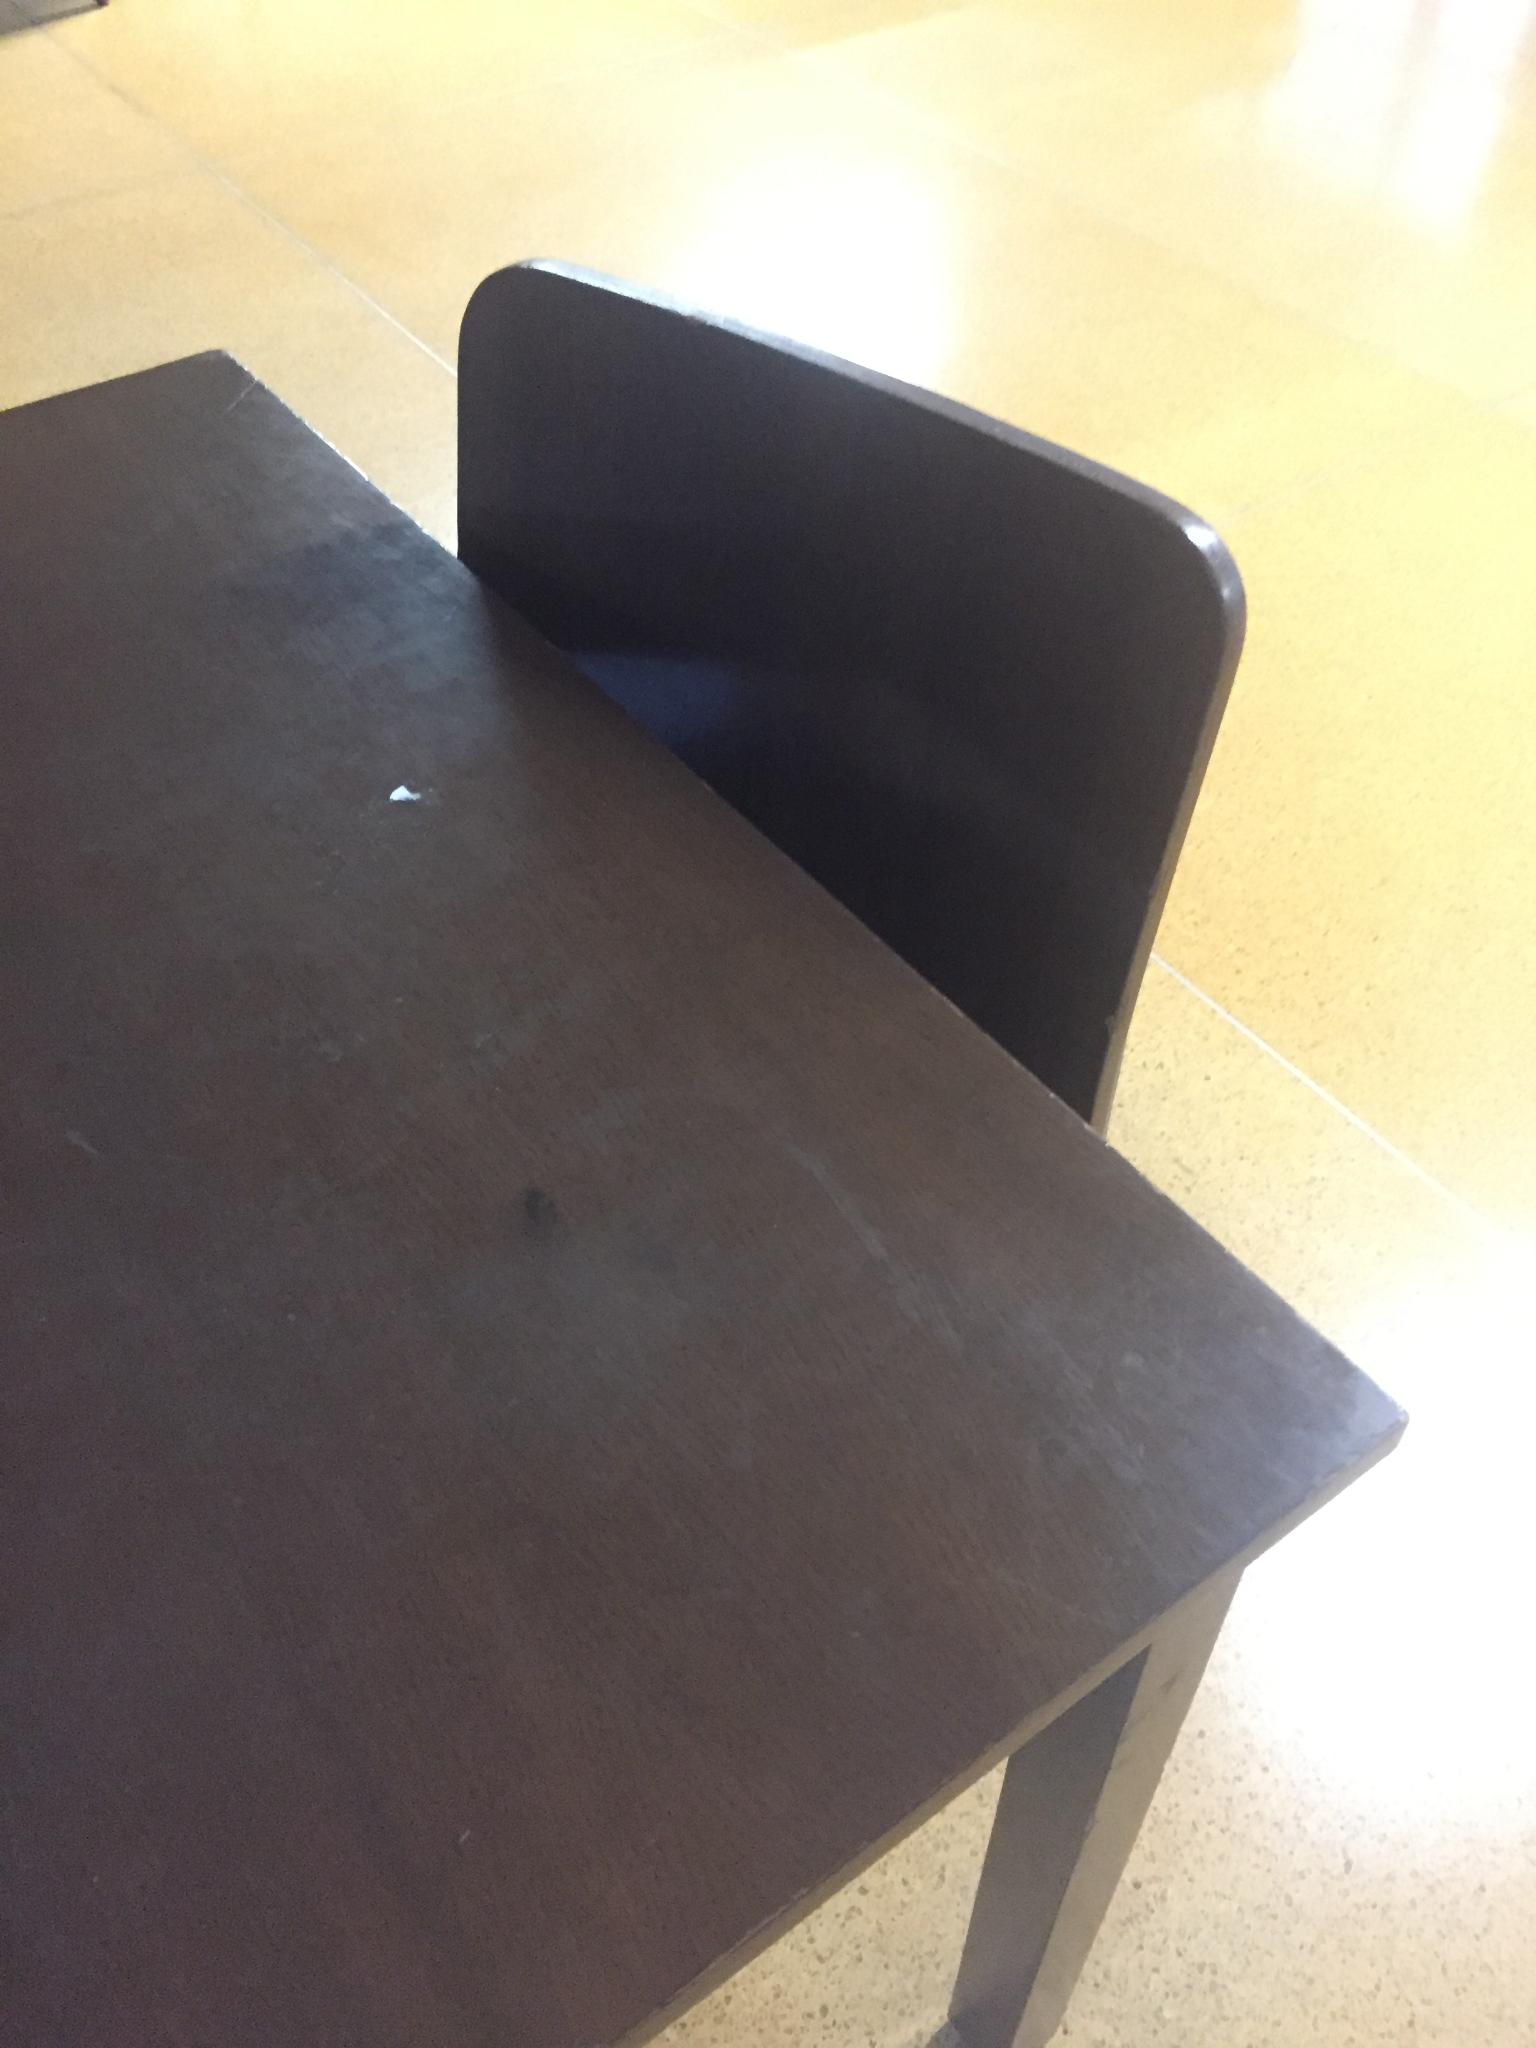chair: (453, 253, 1249, 1142)
